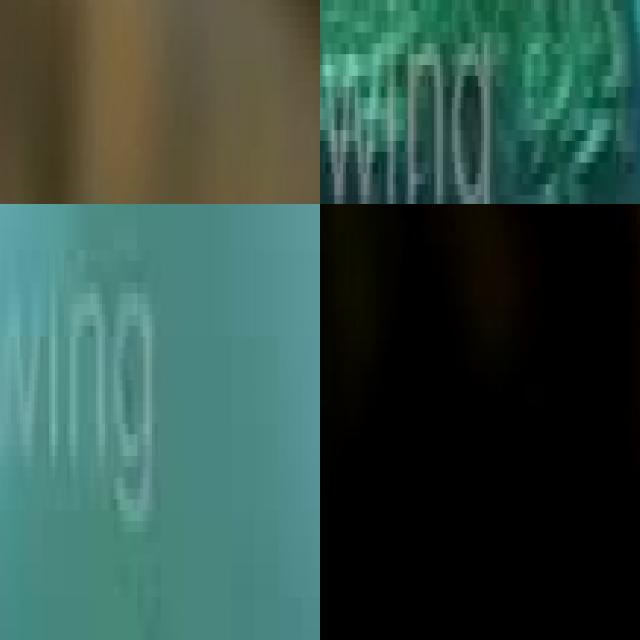fish: (367, 204, 640, 640), (0, 0, 320, 204)
